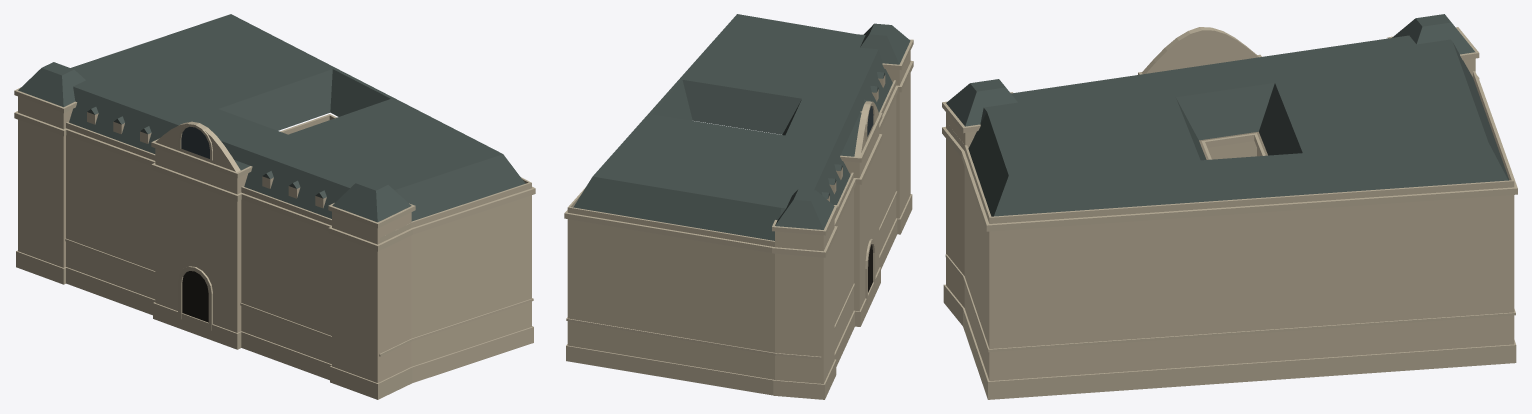
File: gresham.glb
3 views of the same model, side by side, from view 1: azimuth 30°, elevation 25°; view 2: azimuth 150°, elevation 25°; view 3: azimuth 270°, elevation 25° (orthographic). The views are drawn at different scales.
Visible parts, largest first — view 1: gresham; view 2: gresham; view 3: gresham.
Part boxes in pixels (x1,y1,x2,y2): gresham: (14, 14, 535, 399); gresham: (564, 14, 913, 399); gresham: (942, 14, 1517, 399).
Bounding box in the file's own units: 59.95 × 38.24 × 84.1.
